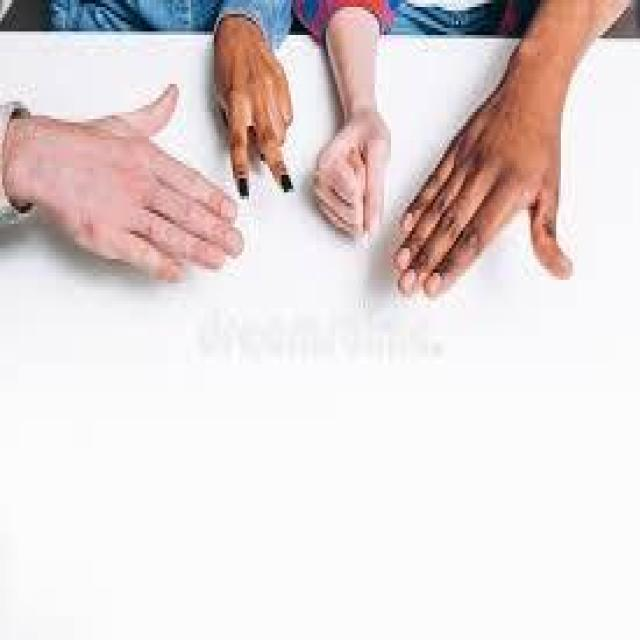paper: (15, 80, 225, 307), (401, 115, 585, 333)
rock: (308, 81, 395, 248)
scirssors: (214, 30, 303, 203)
